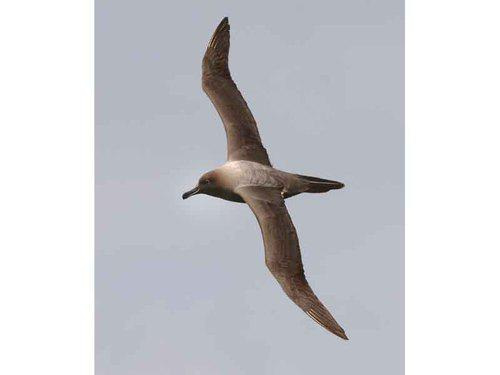003.Sooty_Albatross: (182, 17, 351, 344)
